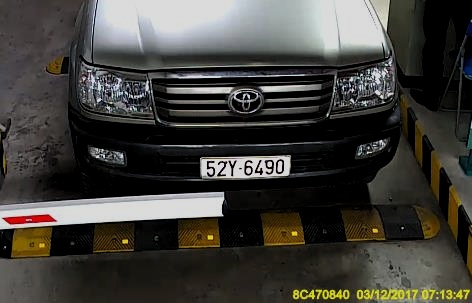plate: (197, 151, 292, 181)
